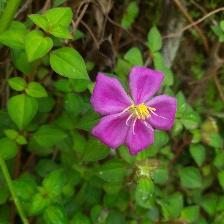malabar melastome: (90, 68, 180, 164)
